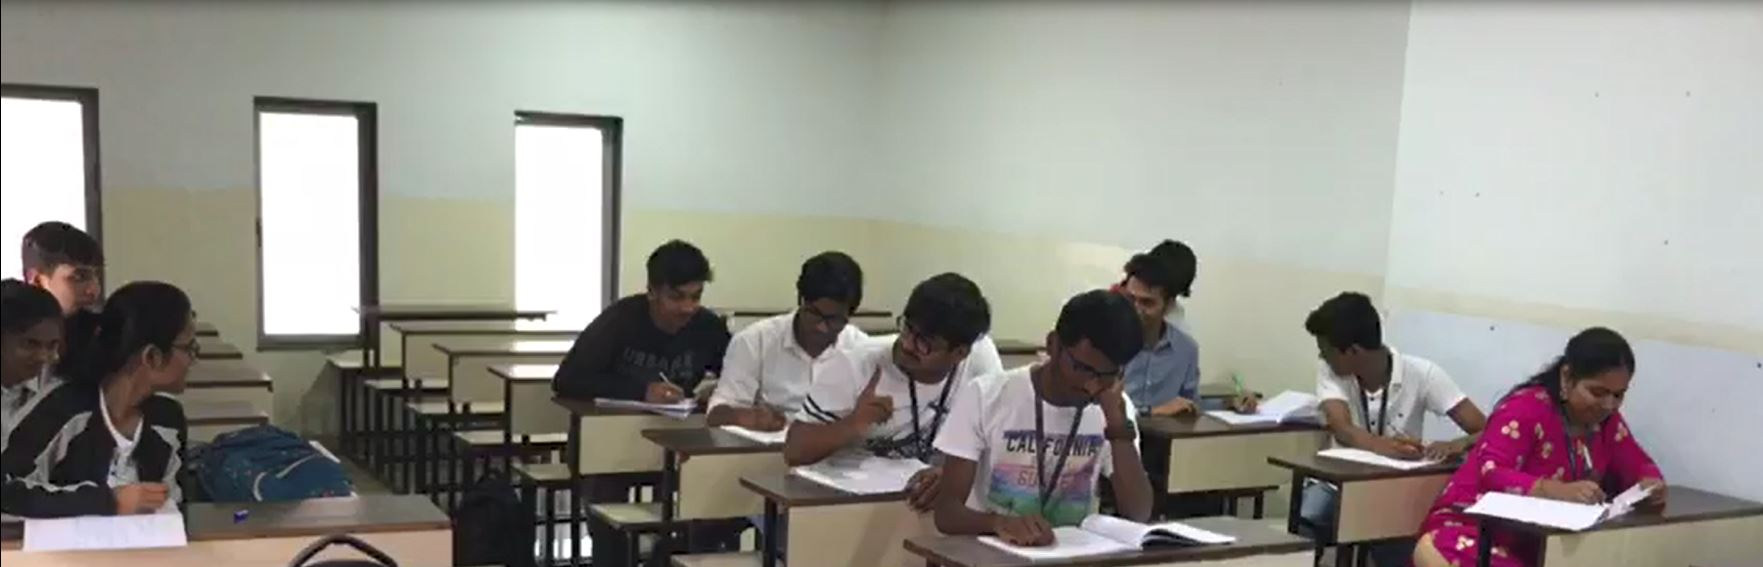gesture: (849, 360, 907, 449)
student: (1422, 319, 1711, 548), (983, 289, 1197, 515), (553, 231, 755, 415), (722, 240, 883, 438), (1111, 262, 1267, 432)
studentcopying: (828, 235, 1032, 504), (49, 275, 256, 533), (1269, 276, 1492, 488), (20, 216, 144, 375), (1, 265, 107, 399)
